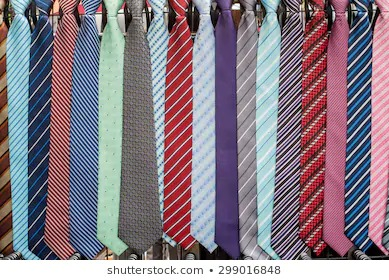F_tie: (189, 1, 226, 255), (212, 1, 246, 260), (27, 1, 60, 261), (300, 1, 330, 259), (6, 1, 36, 257), (347, 2, 377, 256), (76, 1, 104, 258), (52, 1, 78, 261)
